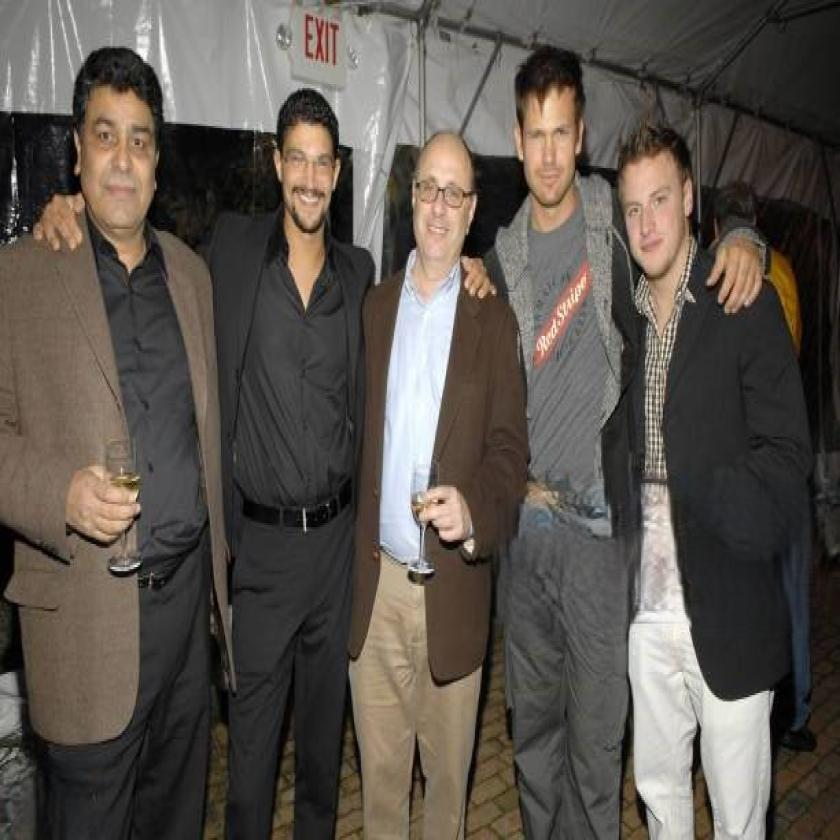Sin_casco: (68, 38, 170, 270), (613, 115, 694, 312), (512, 44, 590, 222), (266, 79, 346, 248), (412, 121, 480, 278)
